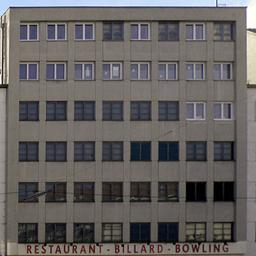building: (6, 0, 247, 256)
